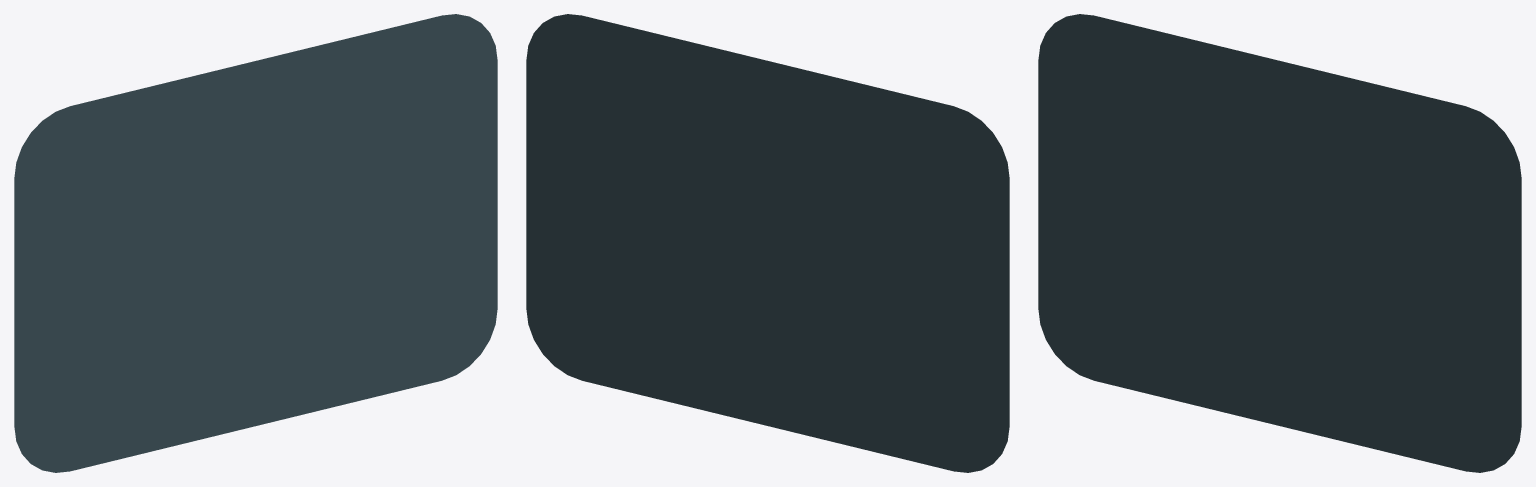
The picture shows the model from 3 angles, left to right: view 1: azimuth 30°, elevation 25°; view 2: azimuth 150°, elevation 25°; view 3: azimuth 330°, elevation 25°; orthographic projection.
Visible parts, largest first — view 1: component.root.mesh; view 2: component.root.mesh; view 3: component.root.mesh.
Part boxes in pixels (<box>): component.root.mesh: <box>14,14,497,472</box>; component.root.mesh: <box>526,14,1009,472</box>; component.root.mesh: <box>1038,14,1521,472</box>.
Size of the model in its own units: 0.9 by 0.65 by 6.79e-08.
